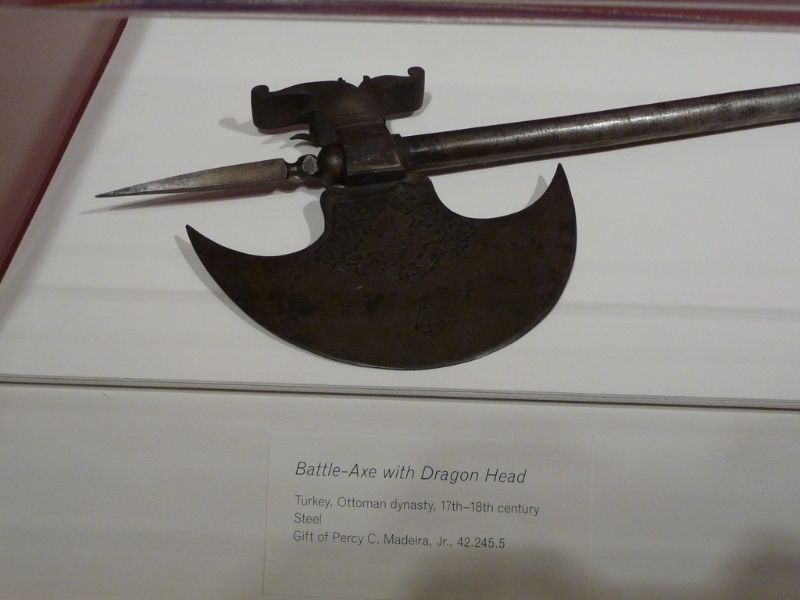axe: (85, 61, 648, 379)
